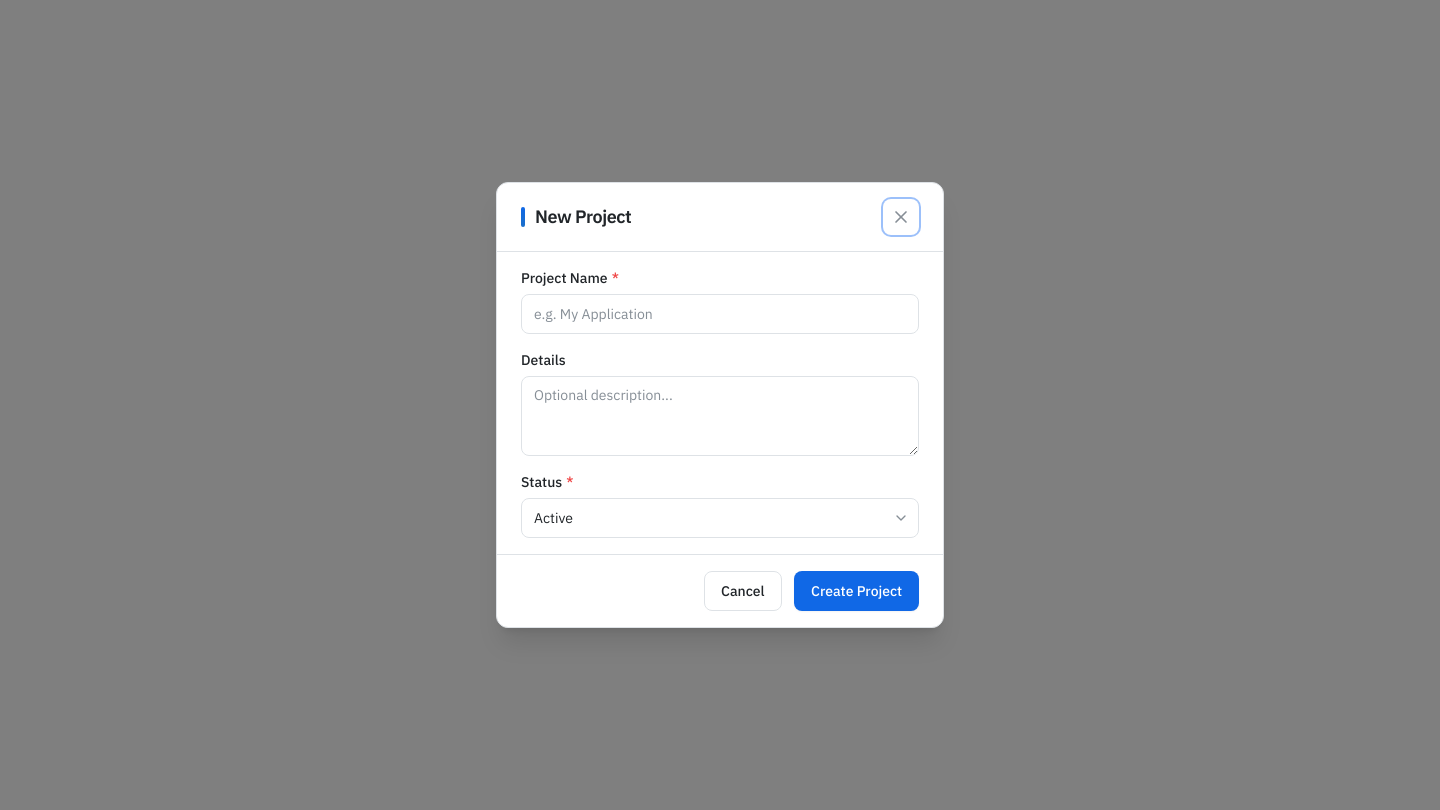
it: ProjectModal notifications › keeps the modal open and renders a mapped conflict toast on failure
Type "Duplicate" into the field labelled "Project Name" at coordinates (720, 314), box [521,294,919,334]
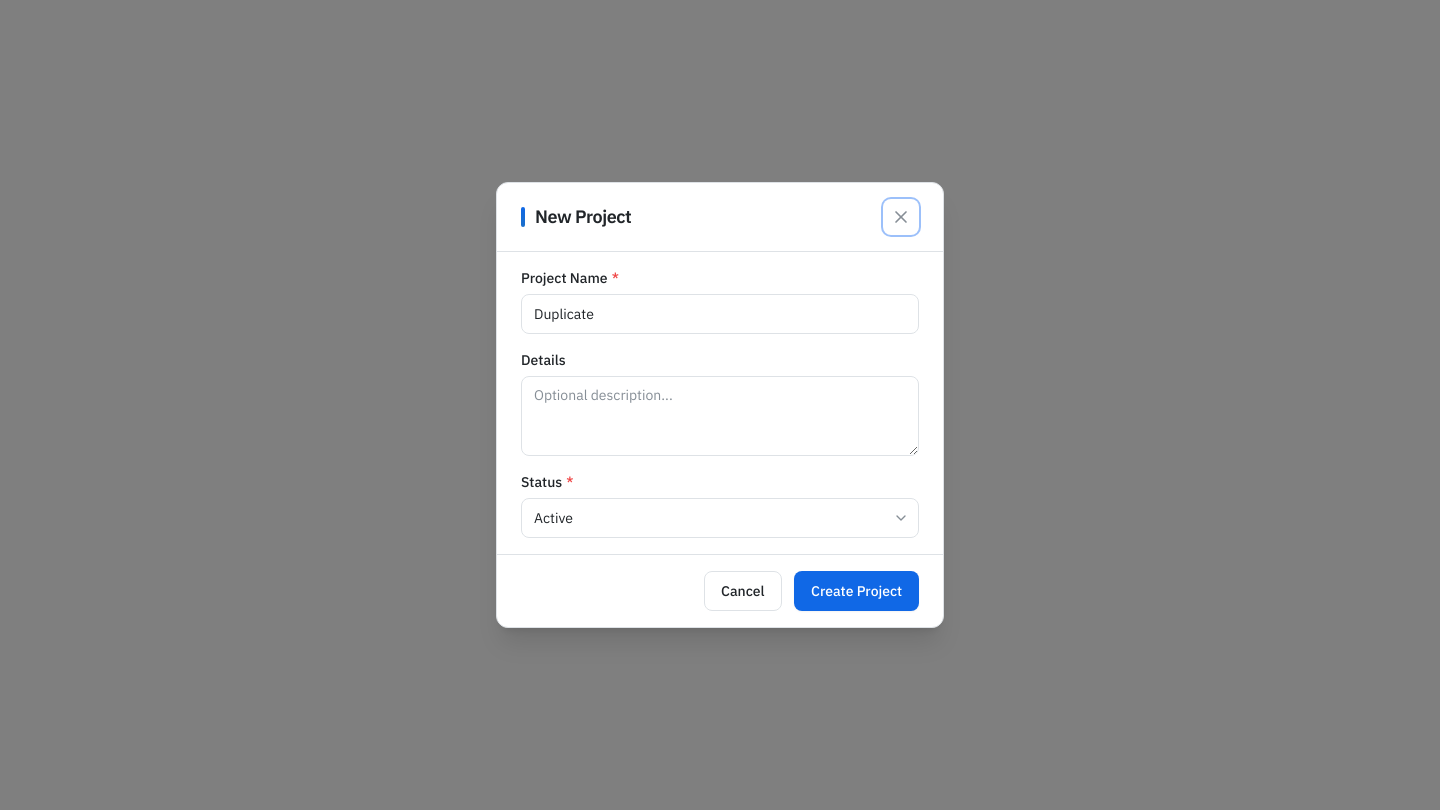
Click the button "Create Project" at coordinates (856, 591), box [794,571,919,611]
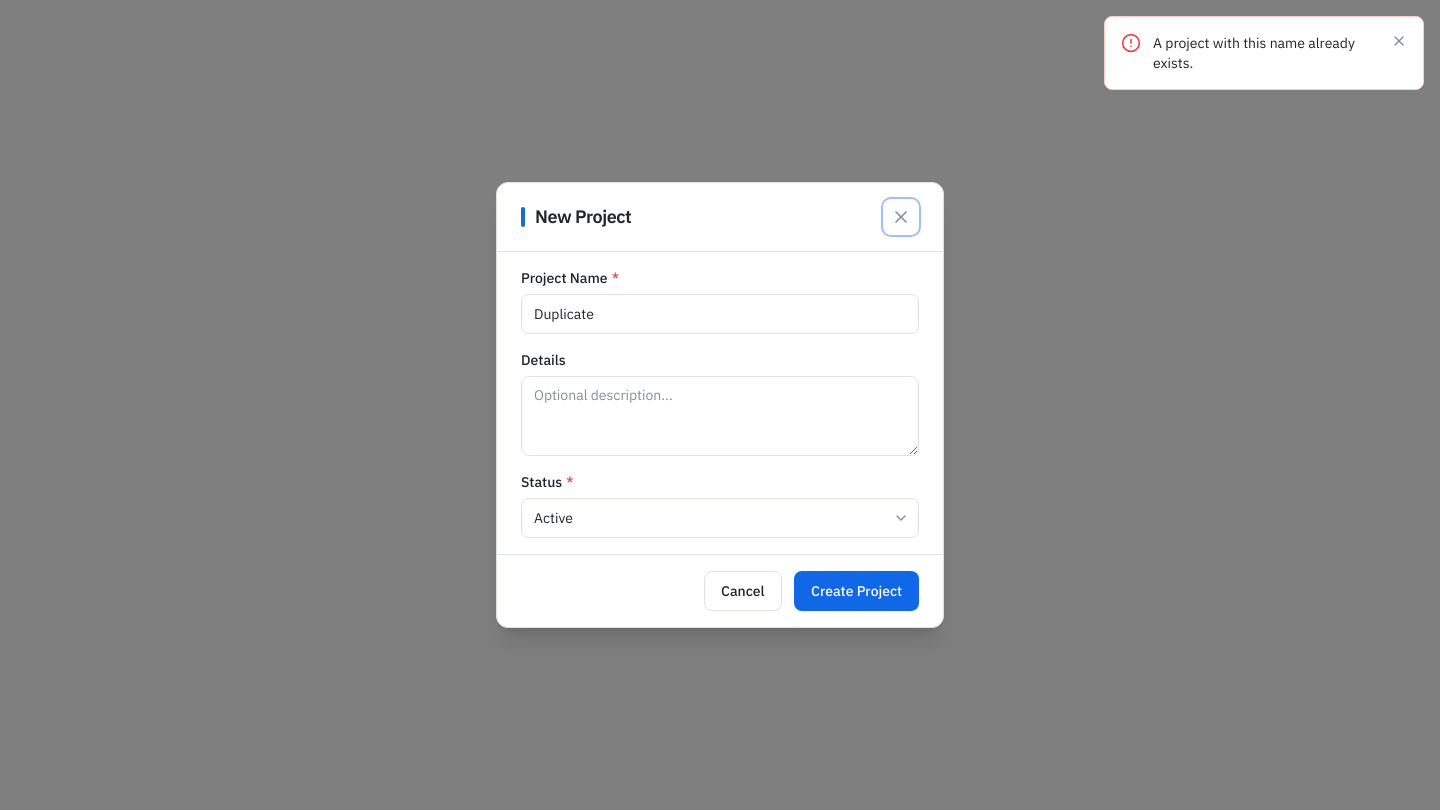
Check: the dialog is shown, box [496,182,944,628]
Check: the message reads "A project with this name already exists.", box [1153,34,1355,72]
